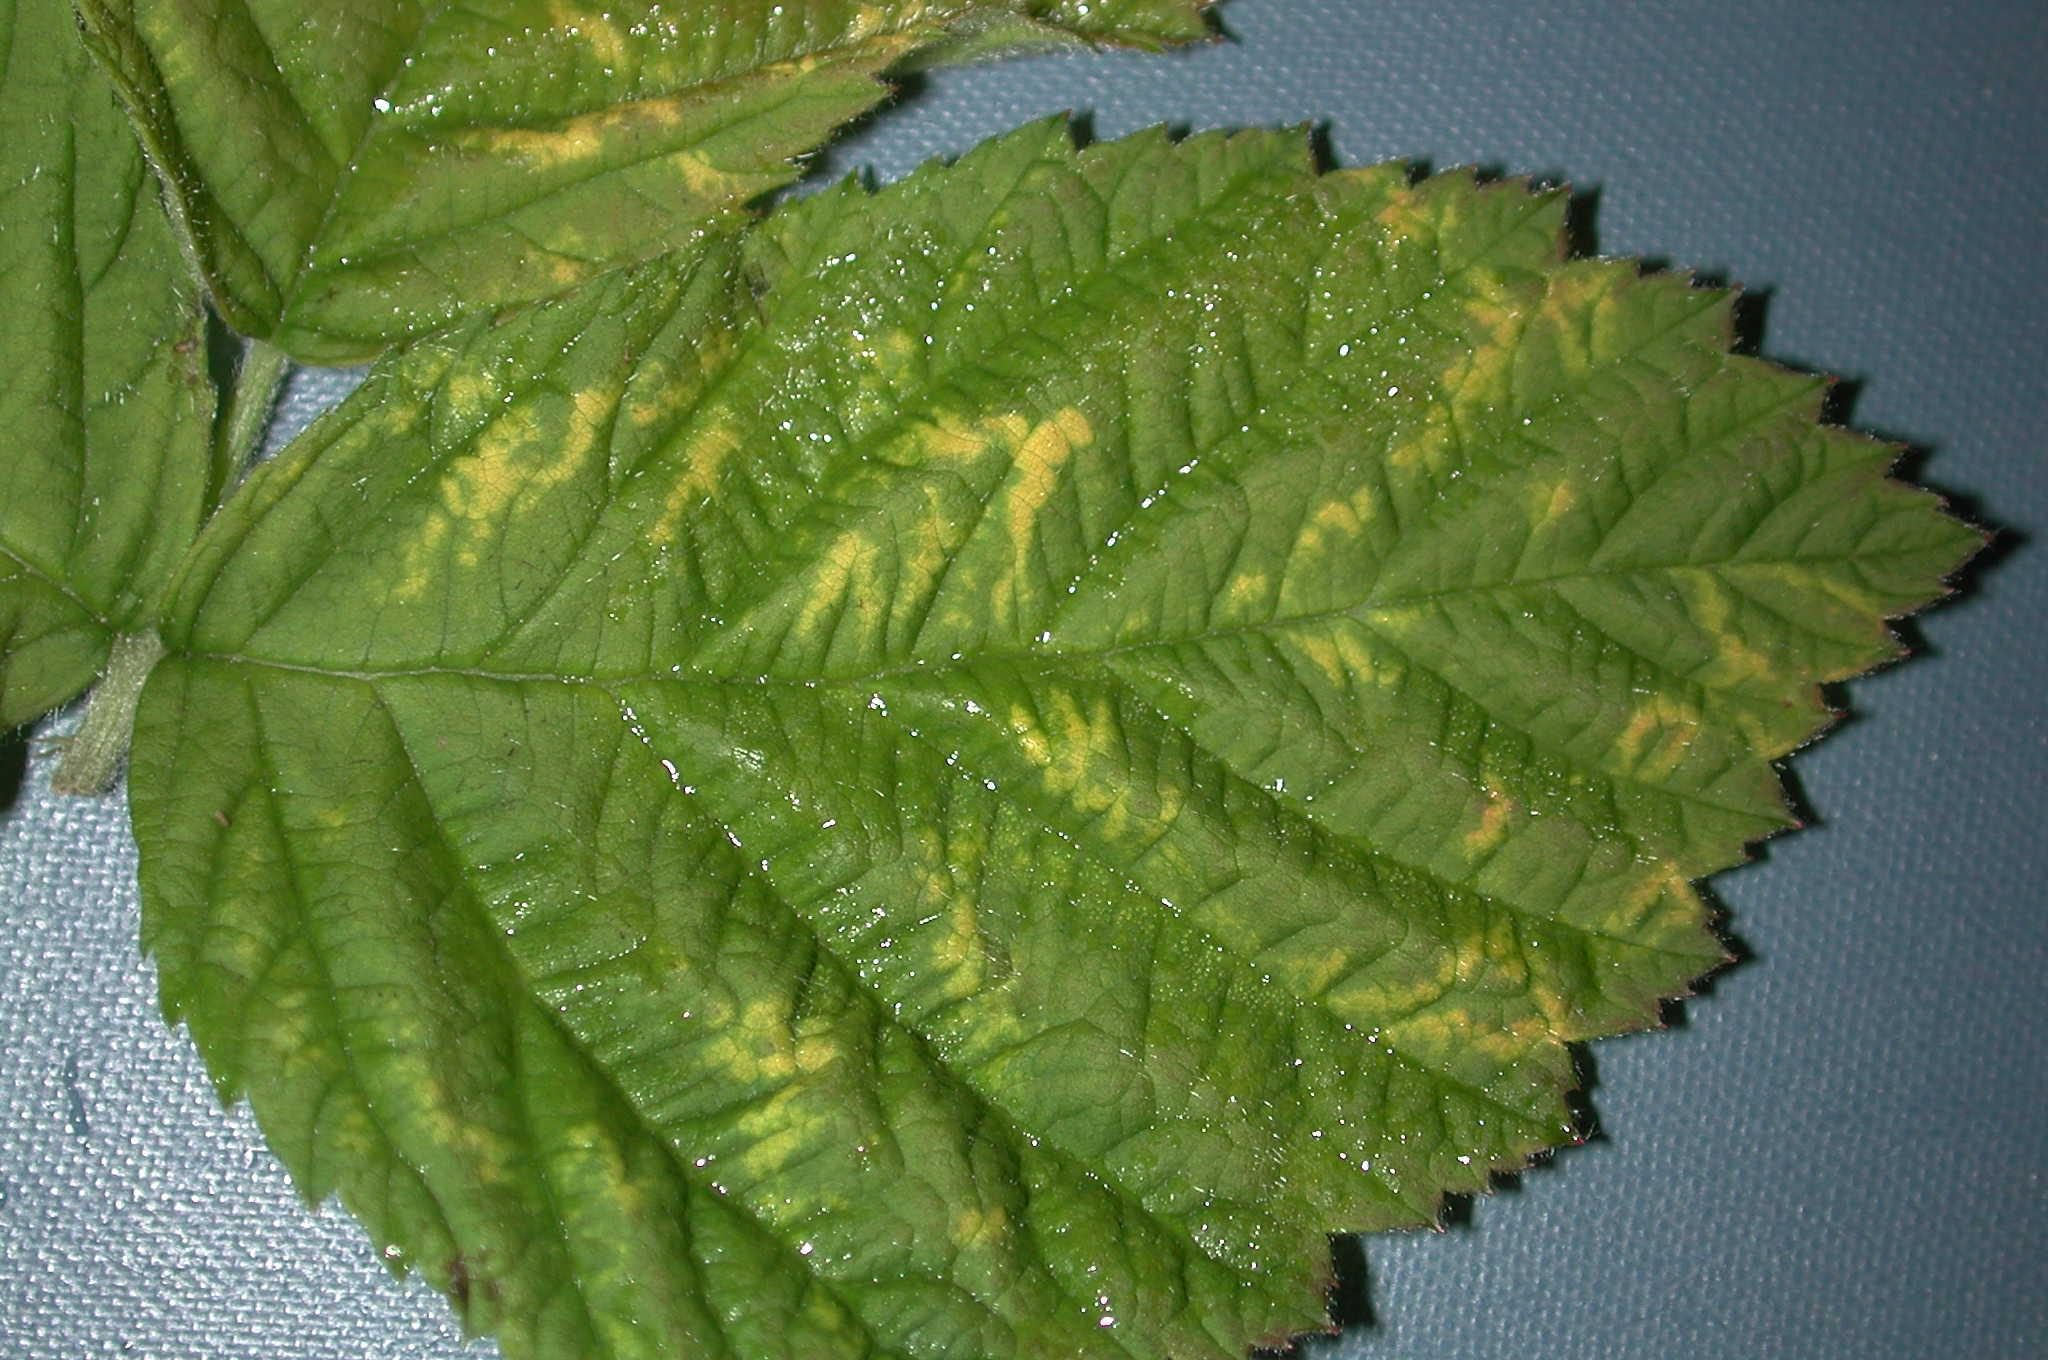Raspberry leaf: (132, 109, 1954, 1360)
